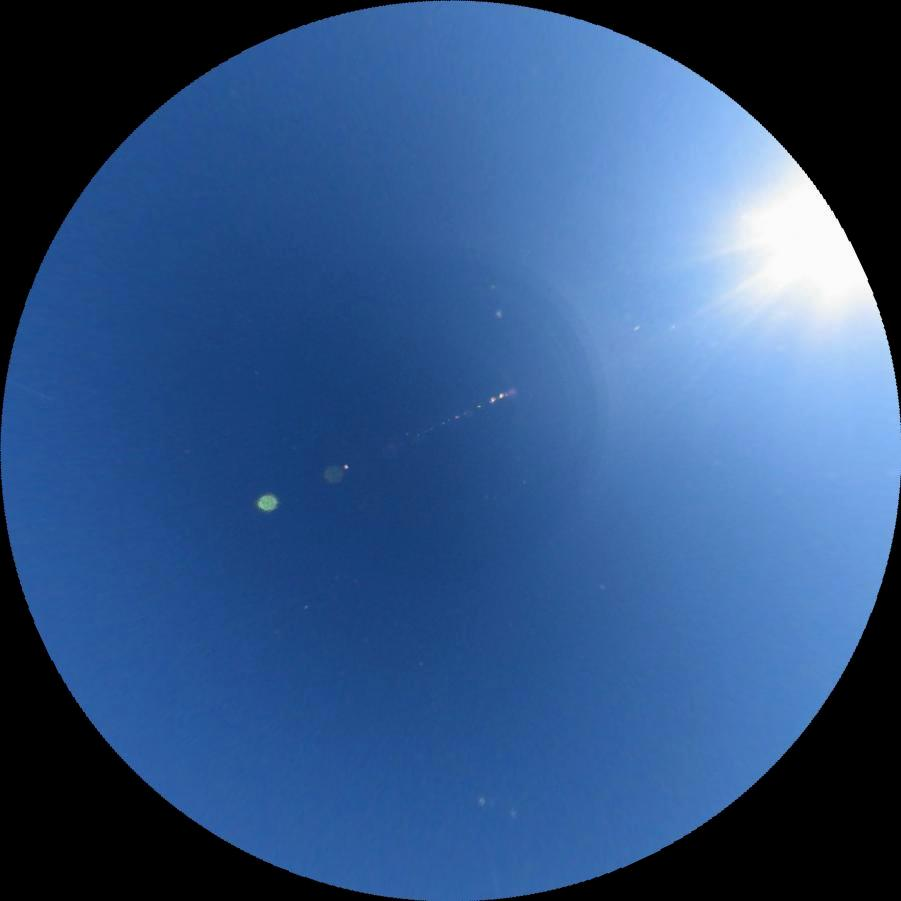contrail young: (7, 374, 58, 409)
sun: (707, 162, 884, 356)
